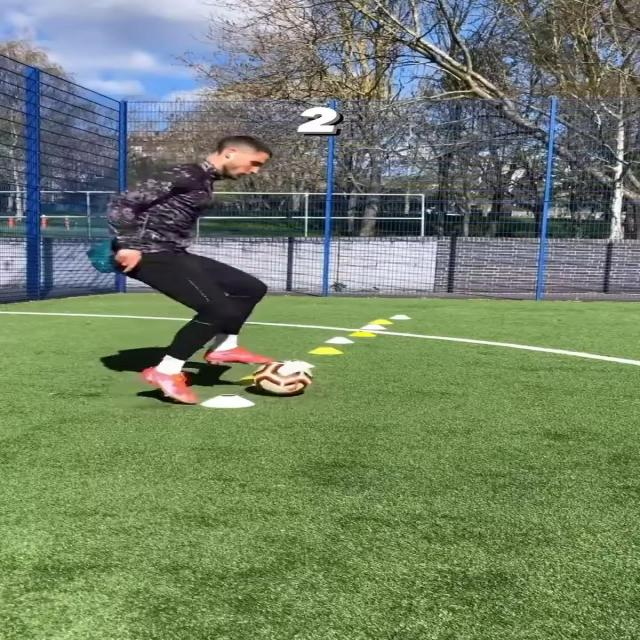Soccer Ball: (252, 361, 312, 395)
